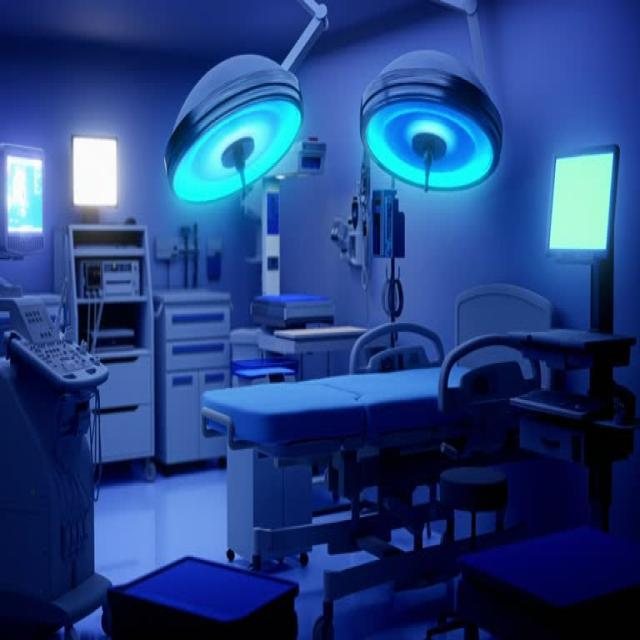Monitor: (548, 134, 623, 279), (0, 121, 50, 281)
bed: (198, 276, 564, 614)
stool: (433, 439, 523, 640)
